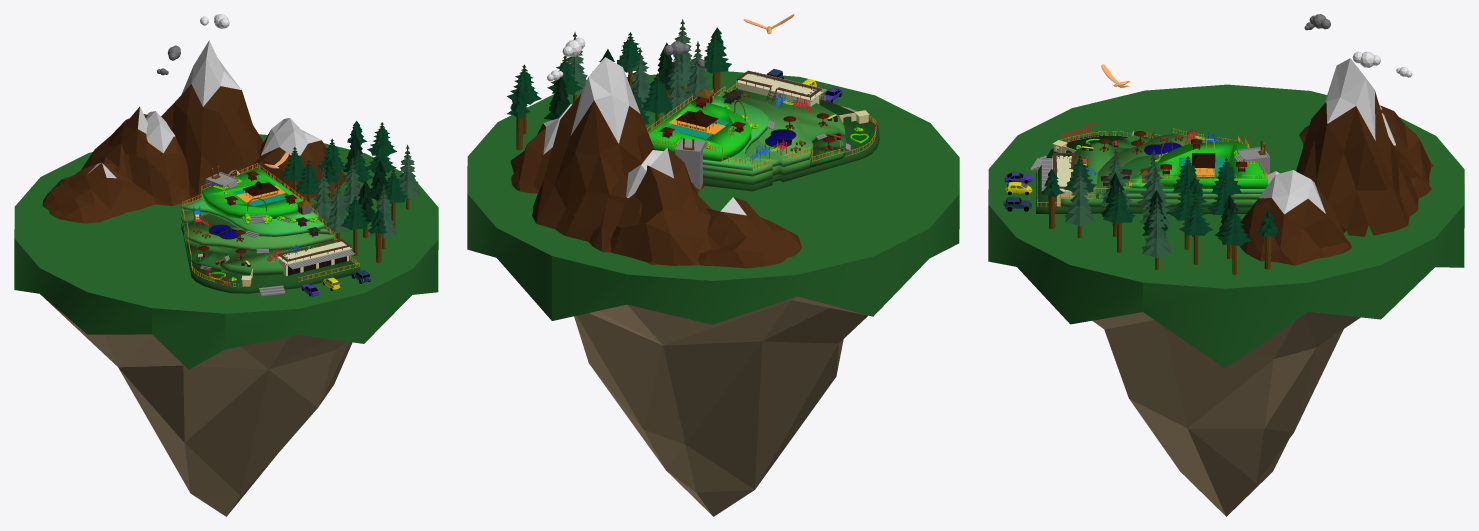
Rendered from UDAH AKU HAPUS SEMUA.glb.
3 views of the same model, side by side, from view 1: azimuth 30°, elevation 25°; view 2: azimuth 150°, elevation 25°; view 3: azimuth 270°, elevation 25° (orthographic). The views are drawn at different scales.
Parts seen in each view (by area): view 1: Cylinder.013; view 2: Cylinder.013; view 3: Cylinder.013.
Part boxes in pixels (x1,y1,x2,y2): Cylinder.013: (14,14,438,516); Cylinder.013: (467,14,959,516); Cylinder.013: (988,14,1464,516).
Bounding box in the file's own units: 0.9935 × 1.13 × 0.9791.
